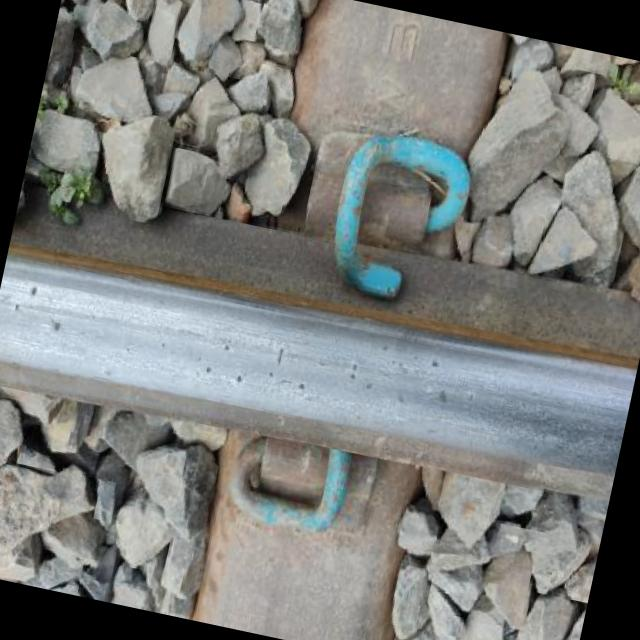non-defective: (0, 124, 640, 613)
